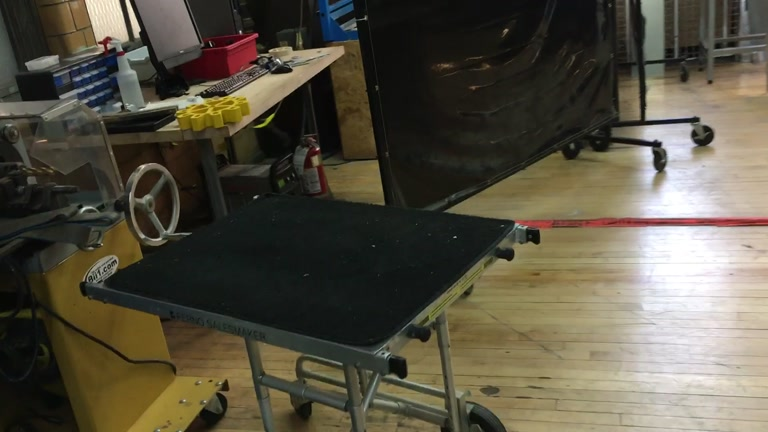gear: (175, 94, 250, 132)
